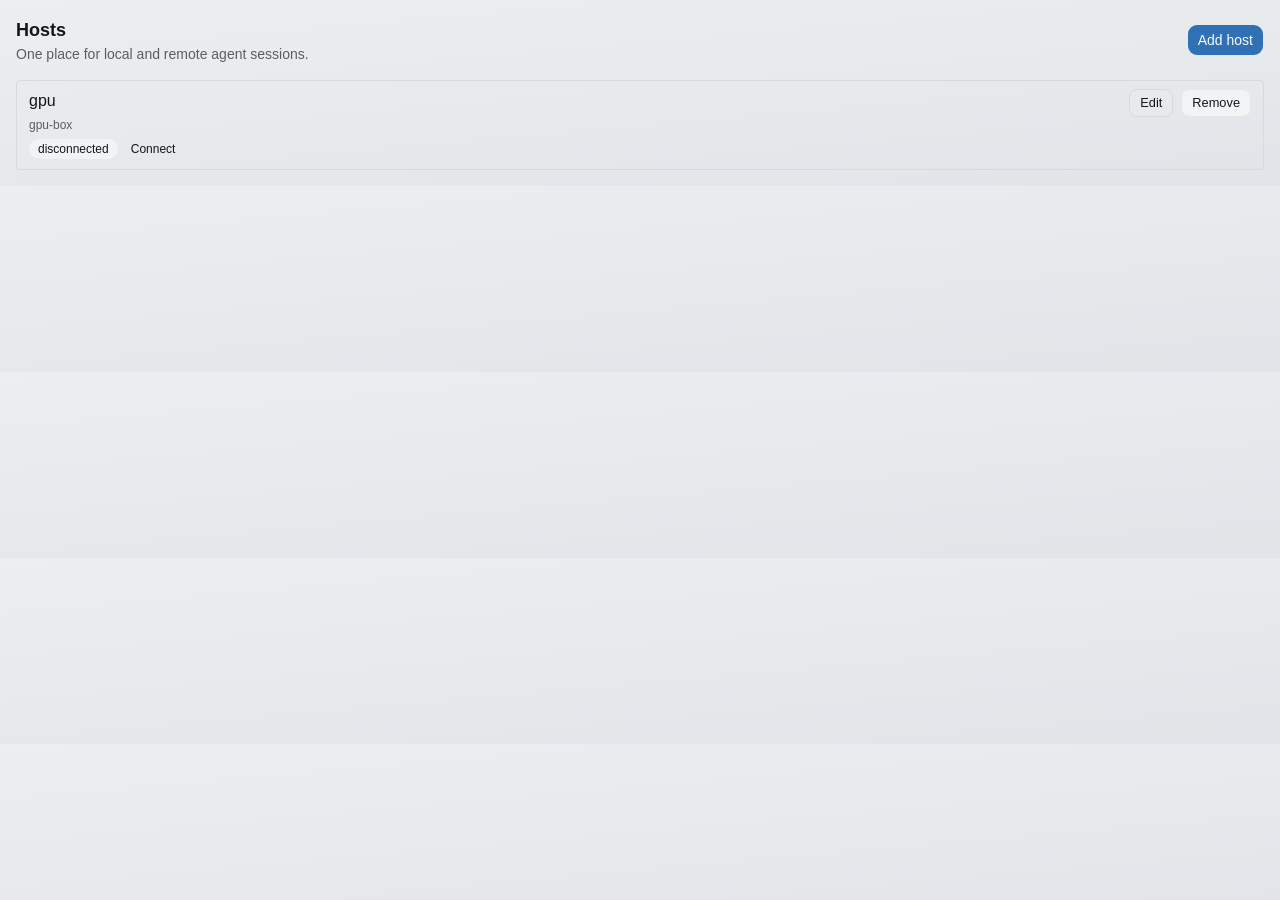
Scenario: DaemonsPage › shows native SSH connection failures instead of leaking a rejection
The width and height of the screenshot is (1280, 900).
Click the button with aria-label "Connect gpu" at (153, 149), box x1=122 y1=137 x2=184 y2=161
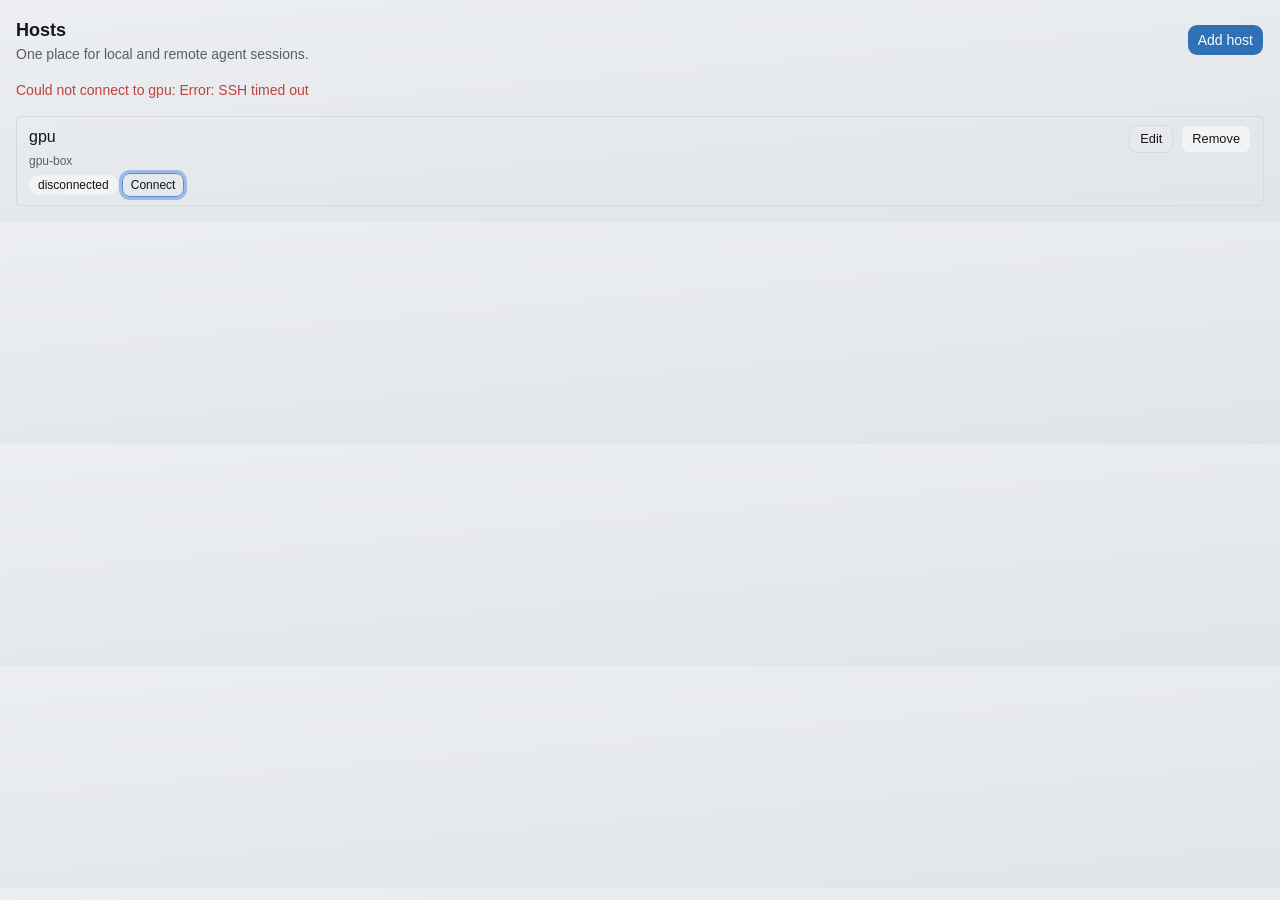
Check: the message reads "Could not connect to gpu: Error: SSH timed out", box x1=16 y1=82 x2=309 y2=98
